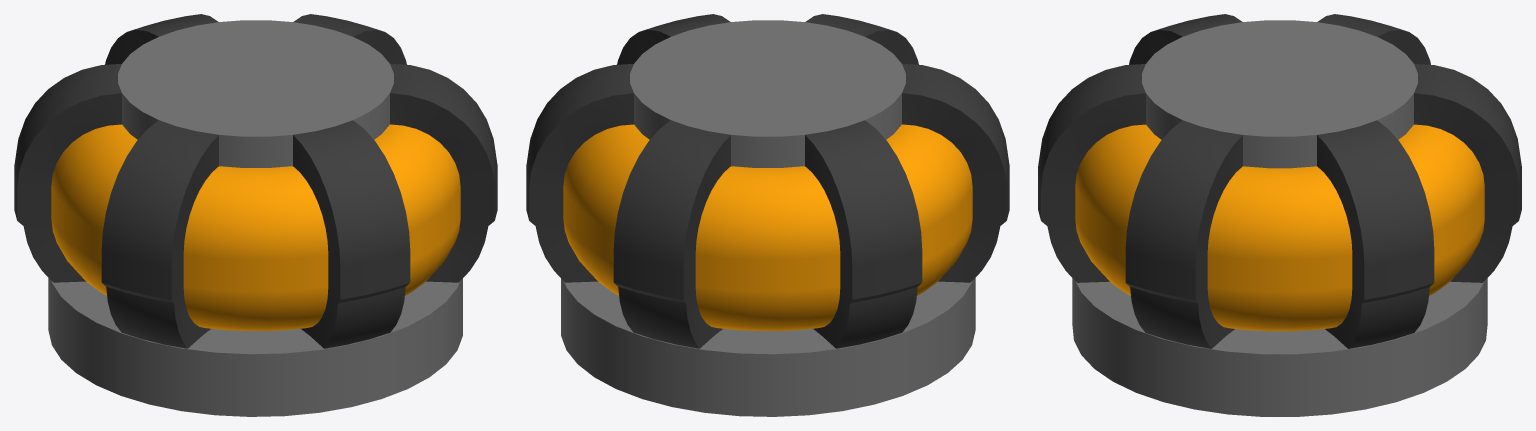
The model's file is TankySquatCapsule.fbx.
3 renders of one model, left to right at view 1: azimuth 30°, elevation 25°; view 2: azimuth 150°, elevation 25°; view 3: azimuth 270°, elevation 25°, orthographic.
Visible parts, largest first — view 1: SquatCapsule v2; view 2: SquatCapsule v2; view 3: SquatCapsule v2.
Part boxes in pixels (x1,y1,x2,y2): SquatCapsule v2: (14, 14, 497, 416); SquatCapsule v2: (526, 14, 1009, 416); SquatCapsule v2: (1038, 14, 1521, 416).
Bounding box in the file's own units: 65.61 × 40 × 69.89.
